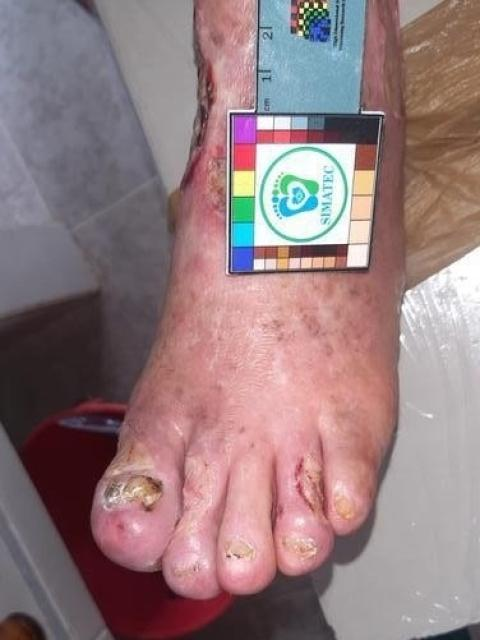wound: (179, 25, 216, 199), (174, 458, 216, 538), (102, 423, 154, 479), (290, 452, 327, 521), (204, 156, 225, 221), (276, 502, 285, 523)
